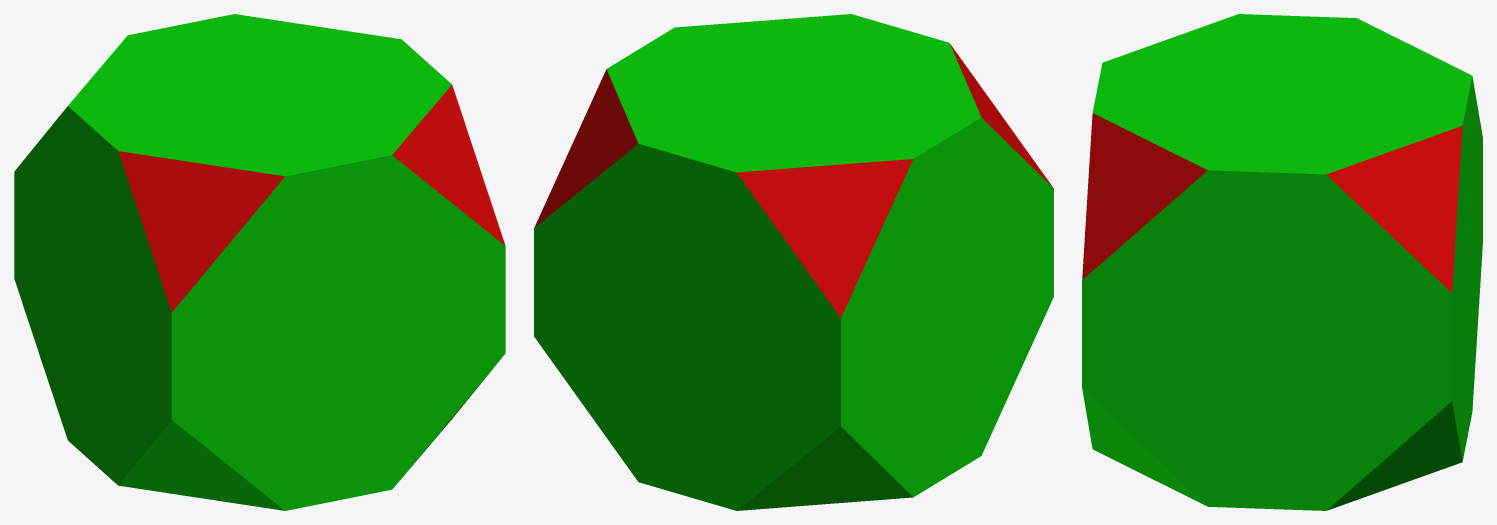
Rendered from anim_cube_000045.obj.
3 views of the same model, side by side, from view 1: azimuth 30°, elevation 25°; view 2: azimuth 150°, elevation 25°; view 3: azimuth 270°, elevation 25° (orthographic).
Visible parts, largest first — view 1: Cube_Cube.002_Material.002, Cube_Cube.002_Material.001; view 2: Cube_Cube.002_Material.002, Cube_Cube.002_Material.001; view 3: Cube_Cube.002_Material.002, Cube_Cube.002_Material.001.
Boxes of the visible parts, x1=… form: Cube_Cube.002_Material.002: x1=14, y1=14, x2=505, y2=510; Cube_Cube.002_Material.001: x1=118, y1=85, x2=505, y2=312; Cube_Cube.002_Material.002: x1=534, y1=14, x2=1053, y2=510; Cube_Cube.002_Material.001: x1=534, y1=44, x2=1052, y2=317; Cube_Cube.002_Material.002: x1=1082, y1=14, x2=1482, y2=510; Cube_Cube.002_Material.001: x1=1082, y1=113, x2=1462, y2=292.
Size of the model in its own units: 3.34 by 3.09 by 3.34.
